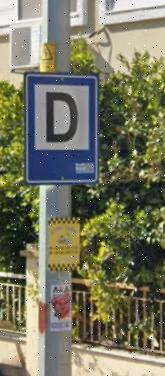station: (26, 77, 96, 155)
